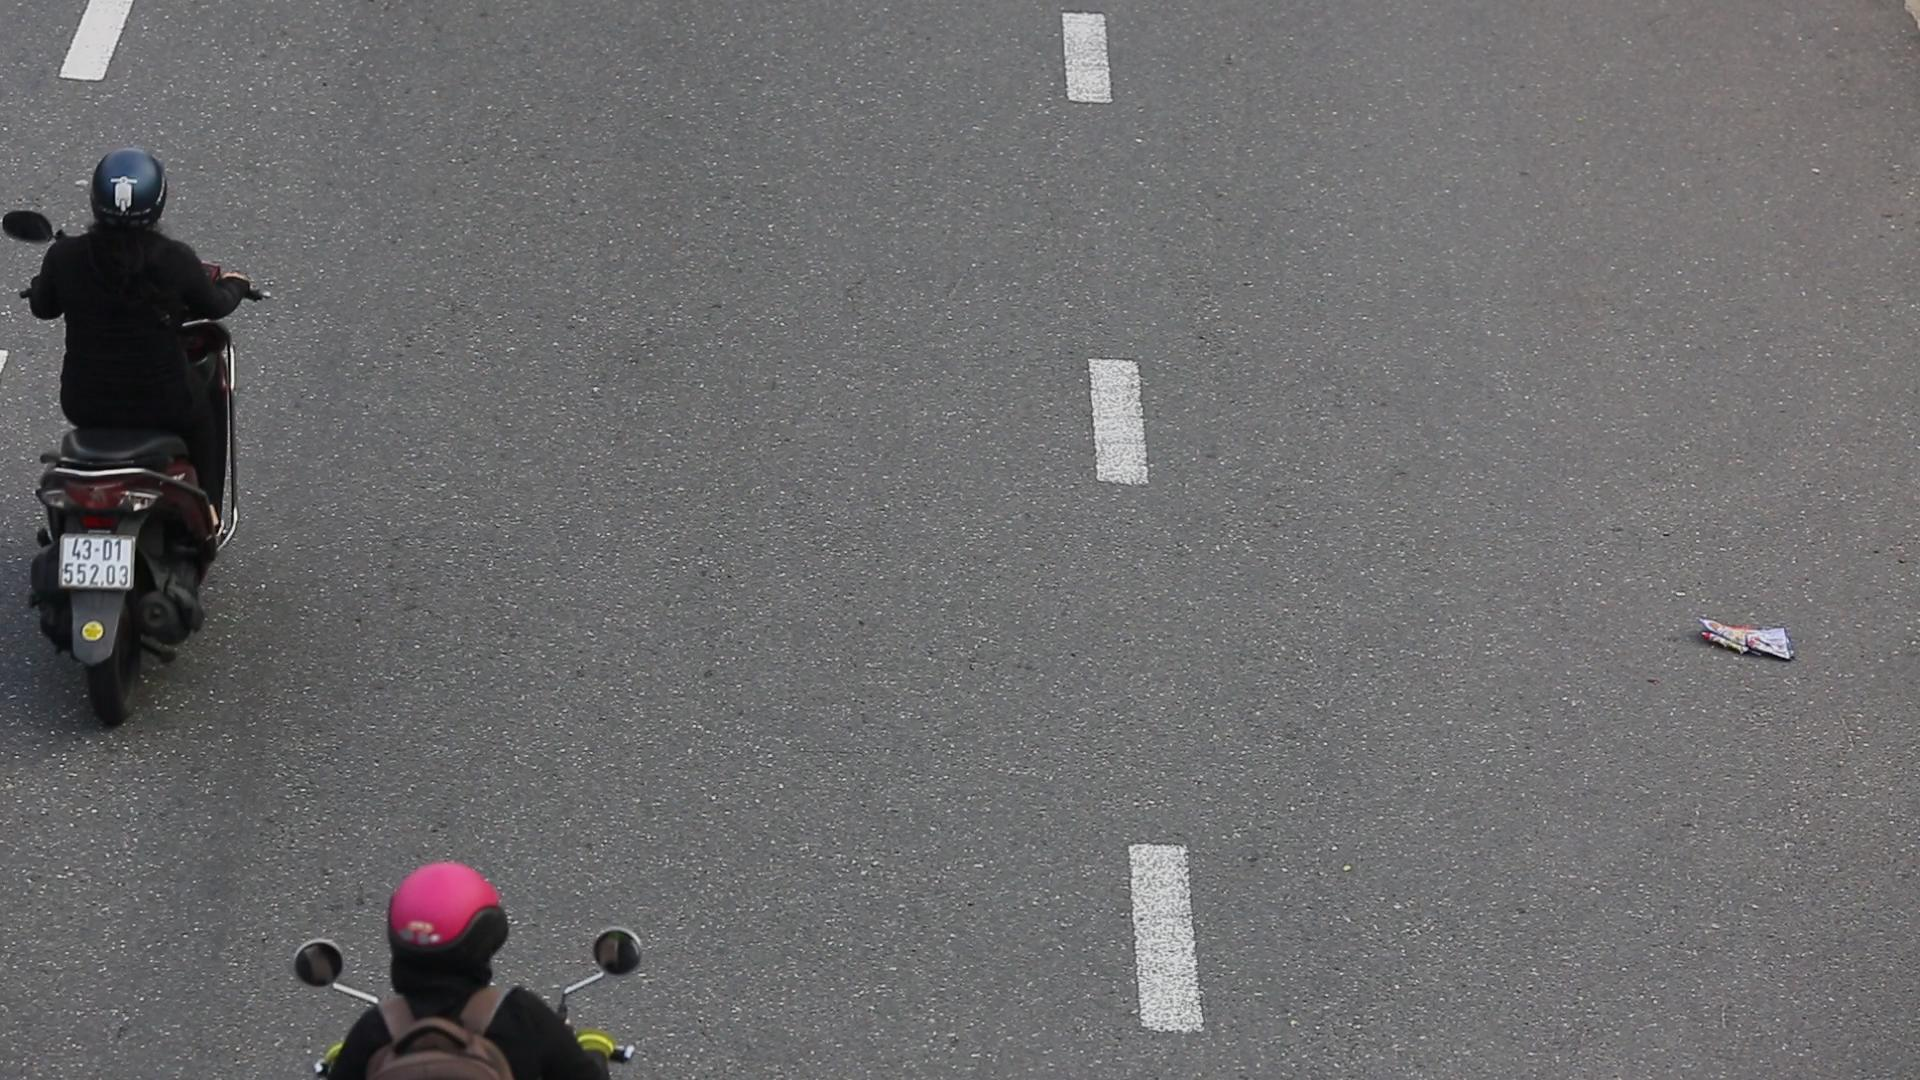motobike: (5, 146, 252, 727)
